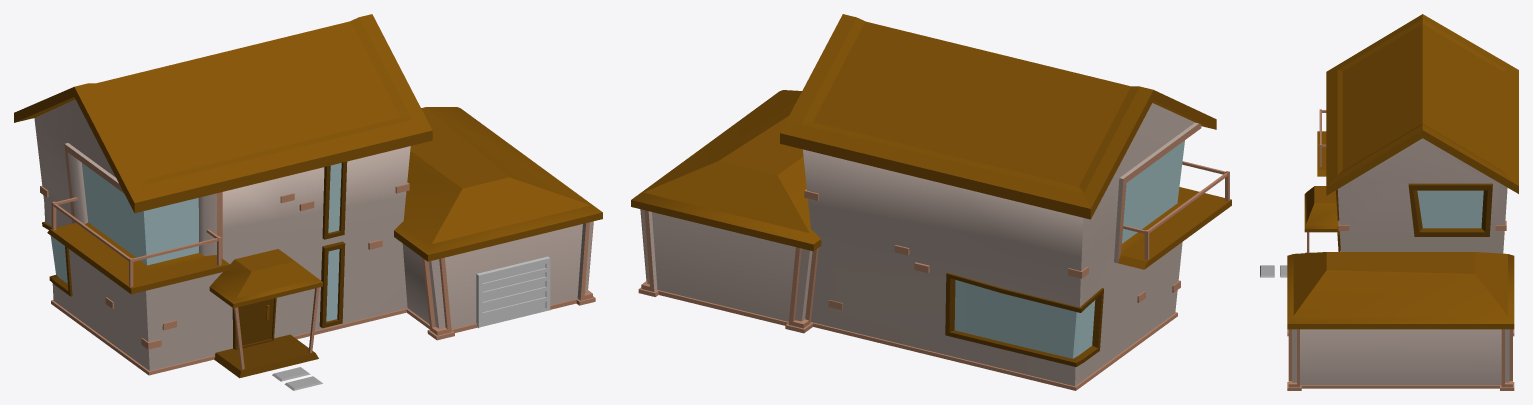
File: Casa_04.fbx
The picture shows the model from 3 angles, left to right: view 1: azimuth 30°, elevation 25°; view 2: azimuth 150°, elevation 25°; view 3: azimuth 270°, elevation 25°; orthographic projection. The views are drawn at different scales.
Parts seen in each view (by area): view 1: Casa_04, Casa_04_Puerta_Garage, Casa_04_Piso, Casa_04_Detalles, Casa_04_Puerta, Casa_04_Ladrillos; view 2: Casa_04, Casa_04_Detalles, Casa_04_Ladrillos; view 3: Casa_04, Casa_04_Detalles.
Boxes of the visible parts, left/top/right/bottom form: Casa_04: left=14, top=14, right=602, bottom=390; Casa_04_Puerta_Garage: left=476, top=256, right=550, bottom=328; Casa_04_Piso: left=214, top=334, right=318, bottom=378; Casa_04_Detalles: left=51, top=197, right=319, bottom=369; Casa_04_Puerta: left=232, top=298, right=276, bottom=349; Casa_04_Ladrillos: left=40, top=182, right=409, bottom=349; Casa_04: left=631, top=14, right=1231, bottom=390; Casa_04_Detalles: left=1123, top=161, right=1229, bottom=260; Casa_04_Ladrillos: left=804, top=189, right=1180, bottom=310; Casa_04: left=1260, top=14, right=1518, bottom=390; Casa_04_Detalles: left=1307, top=109, right=1326, bottom=252.
Size of the model in its own units: 47.01 by 25.73 by 29.15.
